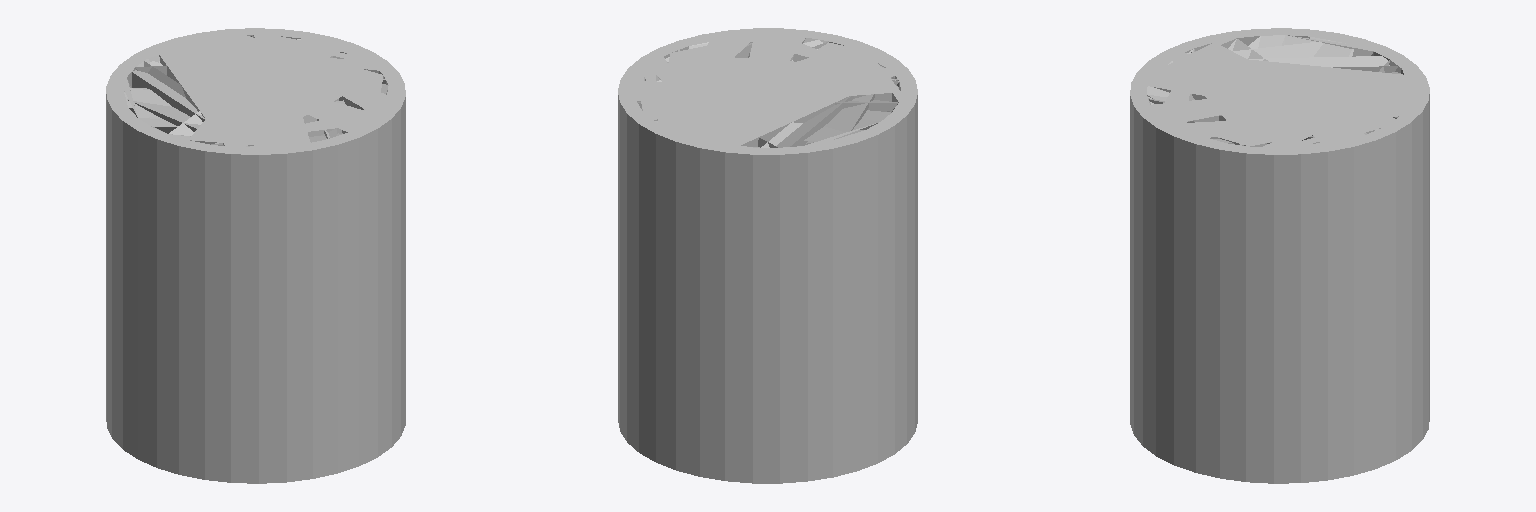
The model's file is keyboard.obj.
The picture shows the model from 3 angles: view 1: azimuth 30°, elevation 25°; view 2: azimuth 150°, elevation 25°; view 3: azimuth 270°, elevation 25°; orthographic projection.
Parts seen in each view (by area): view 1: meshKeyboard26, meshKeyboard07, meshKeyboard03, meshKeyboard02, meshKeyboard01, meshKeyboard08, meshKeyboard09, meshKeyboard14, meshKeyboard06; view 2: meshKeyboard26, meshKeyboard07, meshKeyboard05, meshKeyboard08, meshKeyboard14, meshKeyboard09; view 3: meshKeyboard26, meshKeyboard07, meshKeyboard03, meshKeyboard14, meshKeyboard09, meshKeyboard08.
Boxes of the visible parts, x1=… form: meshKeyboard26: x1=106, y1=28, x2=405, y2=483; meshKeyboard07: x1=135, y1=30, x2=396, y2=153; meshKeyboard03: x1=313, y1=131, x2=400, y2=478; meshKeyboard02: x1=259, y1=154, x2=286, y2=483; meshKeyboard01: x1=205, y1=163, x2=230, y2=482; meshKeyboard08: x1=124, y1=36, x2=363, y2=146; meshKeyboard09: x1=159, y1=35, x2=398, y2=142; meshKeyboard14: x1=127, y1=70, x2=247, y2=146; meshKeyboard06: x1=123, y1=72, x2=204, y2=121; meshKeyboard26: x1=618, y1=28, x2=917, y2=483; meshKeyboard07: x1=635, y1=28, x2=907, y2=150; meshKeyboard05: x1=658, y1=76, x2=894, y2=475; meshKeyboard08: x1=637, y1=40, x2=897, y2=147; meshKeyboard14: x1=776, y1=94, x2=873, y2=147; meshKeyboard09: x1=641, y1=42, x2=843, y2=141; meshKeyboard26: x1=1130, y1=28, x2=1429, y2=483; meshKeyboard07: x1=1132, y1=38, x2=1428, y2=148; meshKeyboard03: x1=1134, y1=128, x2=1353, y2=479; meshKeyboard14: x1=1172, y1=40, x2=1389, y2=67; meshKeyboard09: x1=1147, y1=77, x2=1424, y2=154; meshKeyboard08: x1=1147, y1=35, x2=1396, y2=137.
Bounding box in the file's own units: 9.3 × 11.24 × 9.3.